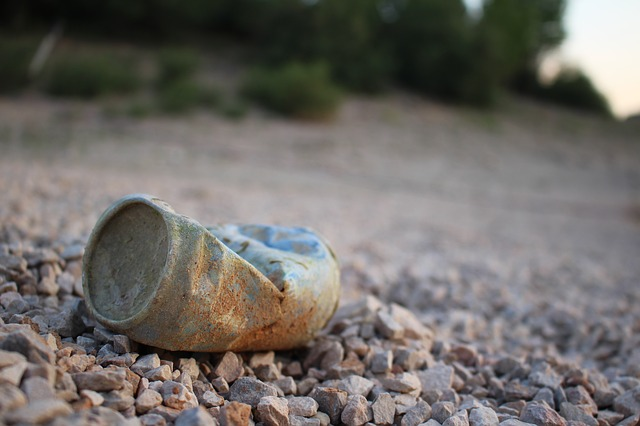can: (70, 186, 354, 364)
